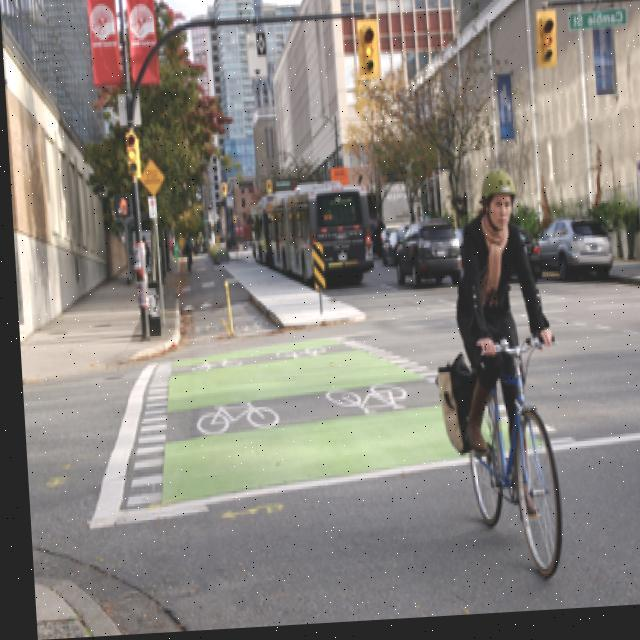Helmet: (474, 169, 518, 241)
